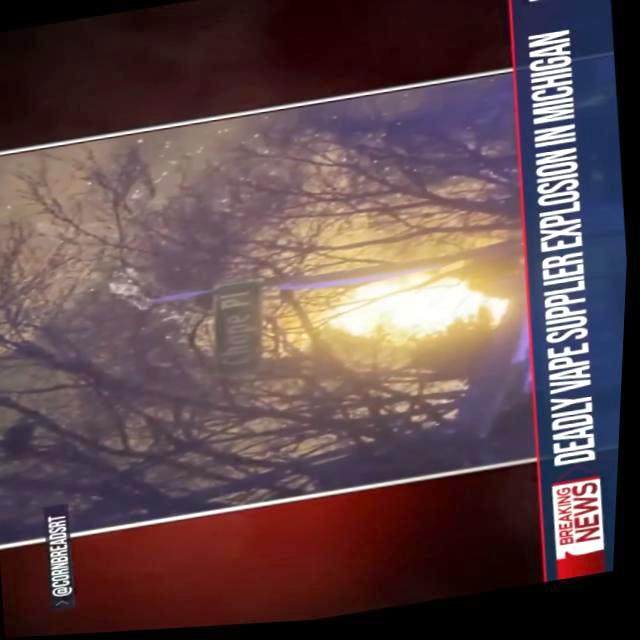fire: (299, 253, 525, 379)
